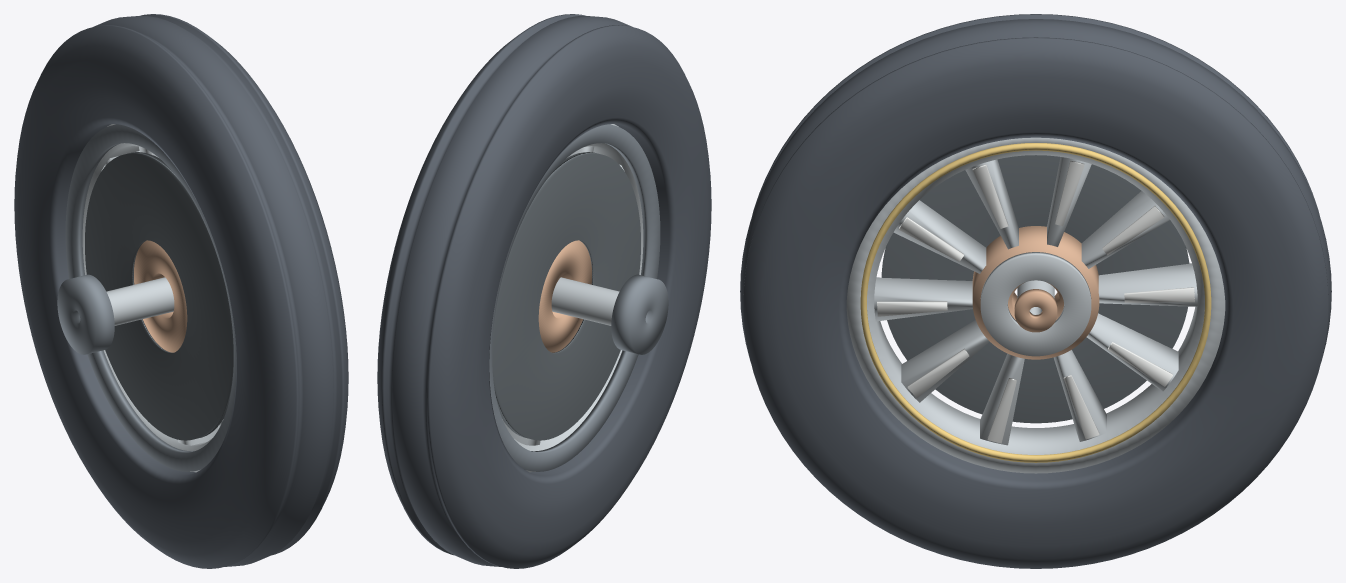
The model's file is M02-002_narrow_speed_wheel_animated.gltf.
3 views of the same model, side by side, from view 1: azimuth 30°, elevation 25°; view 2: azimuth 150°, elevation 25°; view 3: azimuth 270°, elevation 25° (orthographic). The views are drawn at different scales.
Visible parts, largest first — view 1: Wheel_ROTATE_X, StationaryMount_X0; view 2: Wheel_ROTATE_X, StationaryMount_X0; view 3: Wheel_ROTATE_X, StationaryMount_X0.
Part boxes in pixels (box(x1,y1,x2,y2)): Wheel_ROTATE_X: box(14, 14, 348, 568); StationaryMount_X0: box(57, 274, 174, 354); Wheel_ROTATE_X: box(377, 14, 711, 568); StationaryMount_X0: box(551, 274, 668, 354); Wheel_ROTATE_X: box(740, 14, 1331, 568); StationaryMount_X0: box(1014, 280, 1057, 332).
Bounding box in the file's own units: 0.315 × 1.05 × 1.05.
